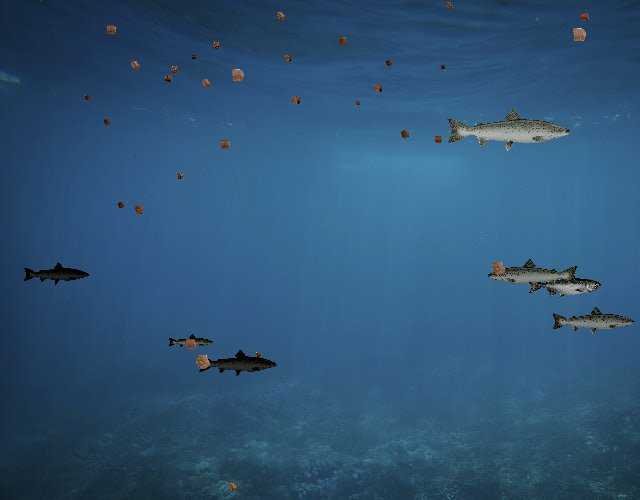Fish: (444, 106, 573, 152), (486, 258, 580, 292), (550, 305, 636, 336), (198, 349, 279, 378), (529, 273, 602, 299), (22, 261, 90, 286), (167, 334, 214, 351)
Pellet: (188, 346, 218, 376), (179, 332, 202, 355), (368, 79, 387, 98), (224, 478, 242, 496), (172, 169, 187, 184), (114, 198, 128, 212)
